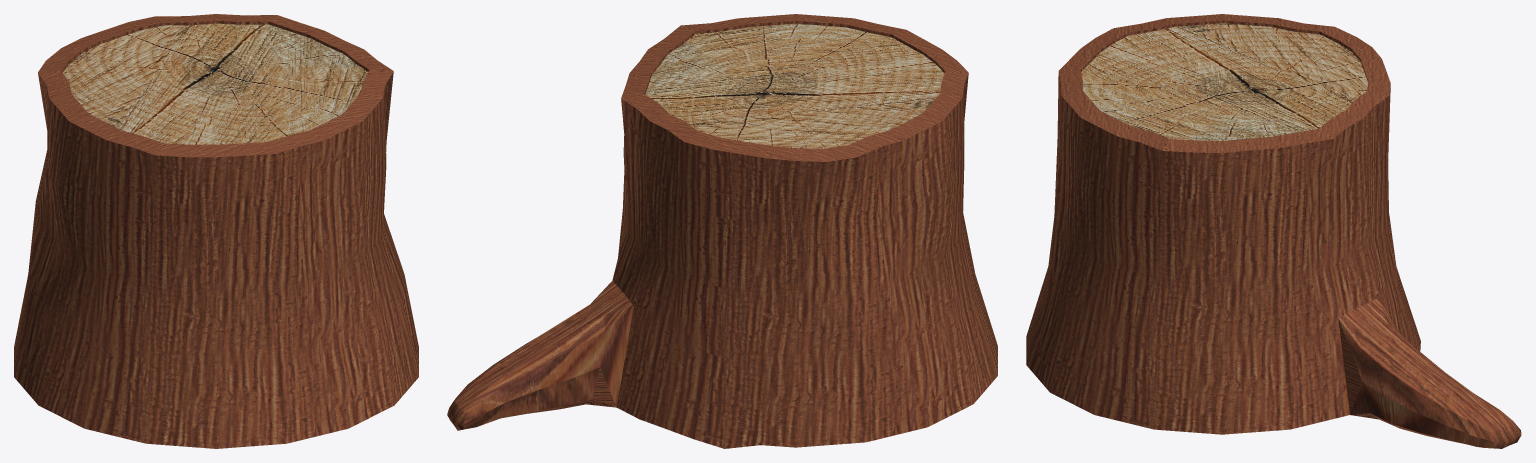
The model's file is Big_Log_1_Stump.FBX.
3 views of the same model, side by side, from view 1: azimuth 30°, elevation 25°; view 2: azimuth 150°, elevation 25°; view 3: azimuth 270°, elevation 25° (orthographic). The views are drawn at different scales.
Parts seen in each view (by area): view 1: Stump; view 2: Stump, Object002; view 3: Stump, Object002.
Part boxes in pixels (bbox=[...]): Stump: bbox=[14, 14, 418, 448]; Stump: bbox=[612, 14, 997, 448]; Object002: bbox=[447, 281, 633, 430]; Stump: bbox=[1026, 14, 1420, 434]; Object002: bbox=[1338, 298, 1521, 448].
Size of the model in its own units: 93.68 by 66.61 by 108.
Materials: 2 (2 with a texture image).
